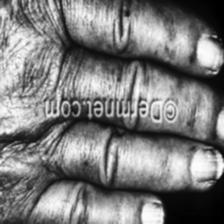Unclassified: (0, 180, 19, 216), (118, 8, 136, 26)
